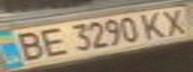0: (118, 15, 145, 43)
2: (87, 18, 109, 50)
3: (69, 20, 93, 52)
9: (103, 17, 127, 47)
B: (6, 29, 48, 62)
E: (33, 25, 69, 58)
K: (136, 10, 175, 39)
X: (154, 7, 193, 35)
